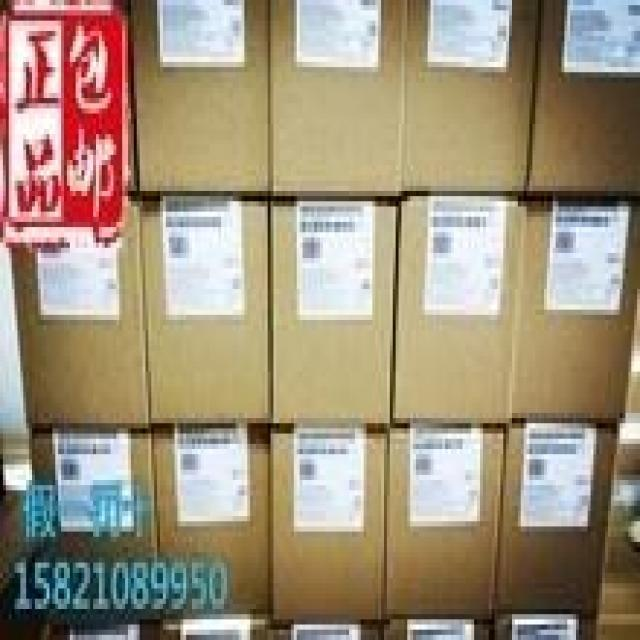box: (10, 207, 154, 436), (270, 200, 400, 432), (142, 205, 272, 432), (266, 0, 412, 202), (398, 199, 520, 430), (131, 0, 270, 202), (401, 0, 542, 195), (522, 198, 638, 428), (498, 423, 627, 626), (26, 438, 162, 622), (153, 418, 270, 619), (270, 425, 386, 624), (523, 0, 640, 196), (388, 427, 498, 629)
